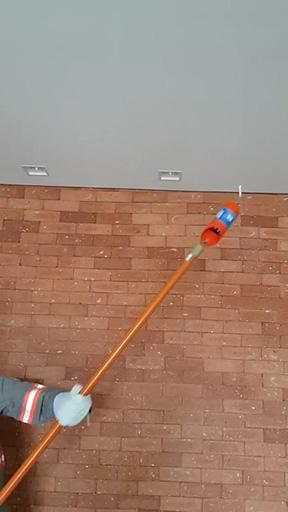Detector_Tensao_Contato: (198, 184, 252, 247)
Vara_Manobra: (1, 245, 205, 501)
